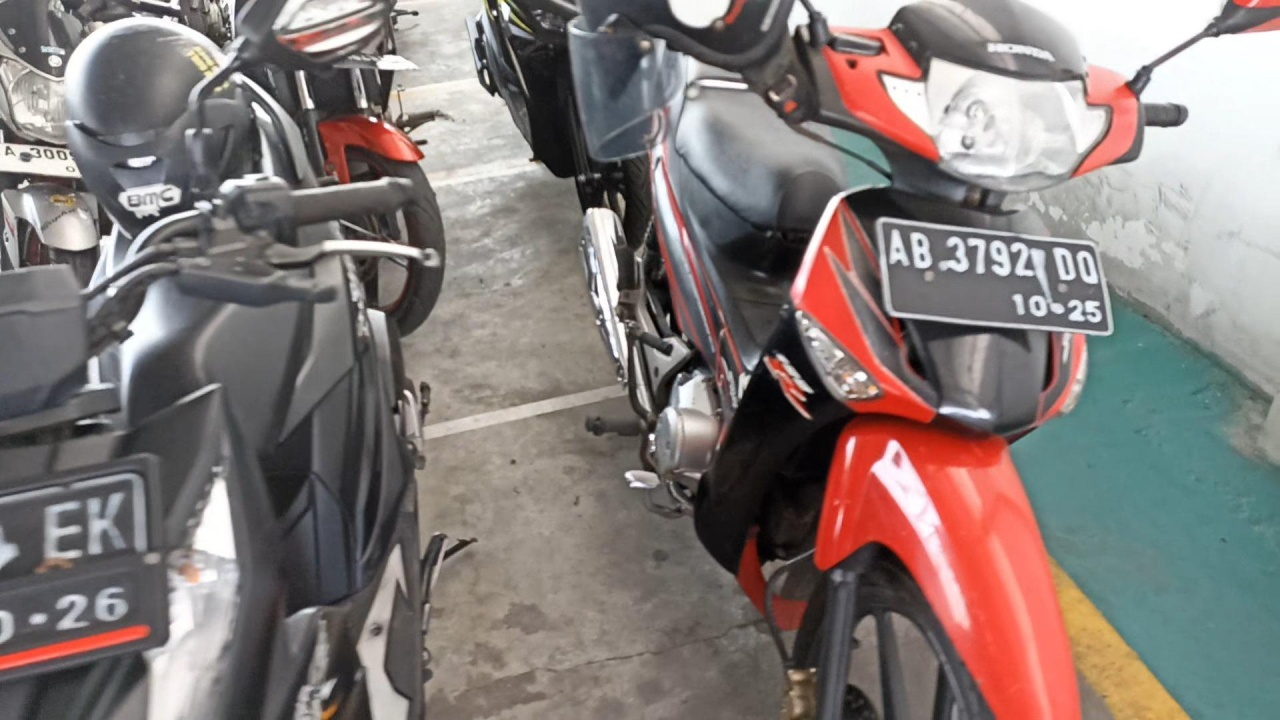plate: (878, 217, 1114, 335)
